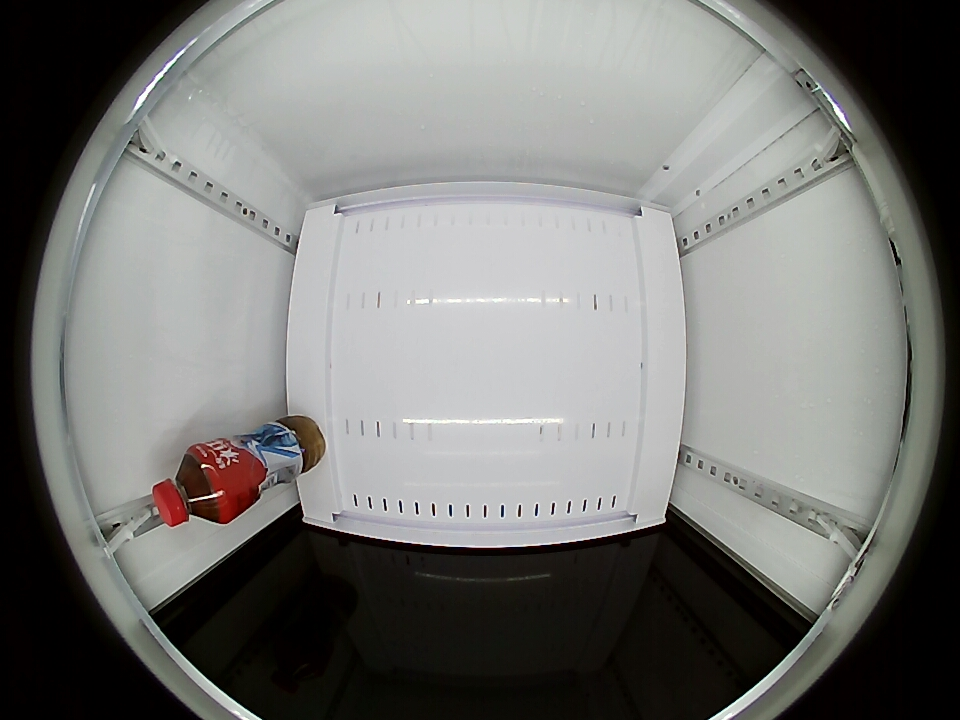binghongcha: (152, 445, 234, 528)
